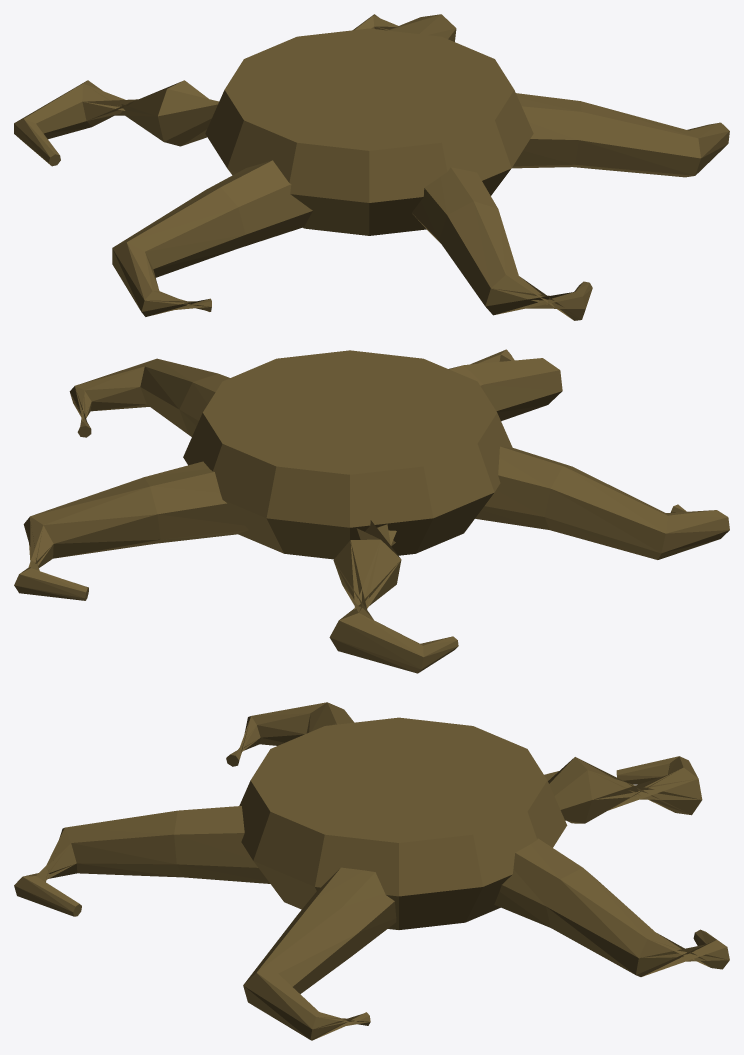
Rendered from VineRoots.glb.
3 views of the same model, one above another, from view 1: azimuth 30°, elevation 25°; view 2: azimuth 150°, elevation 25°; view 3: azimuth 270°, elevation 25° (orthographic). The views are drawn at different scales.
Visible parts, largest first — view 1: VineRoots_VineRoot; view 2: VineRoots_VineRoot; view 3: VineRoots_VineRoot.
Part boxes in pixels (left/top/right/bottom): VineRoots_VineRoot: left=14, top=14, right=729, bottom=320; VineRoots_VineRoot: left=14, top=349, right=729, bottom=673; VineRoots_VineRoot: left=14, top=702, right=729, bottom=1040.
Size of the model in its own units: 3.7 by 0.6 by 3.62.
